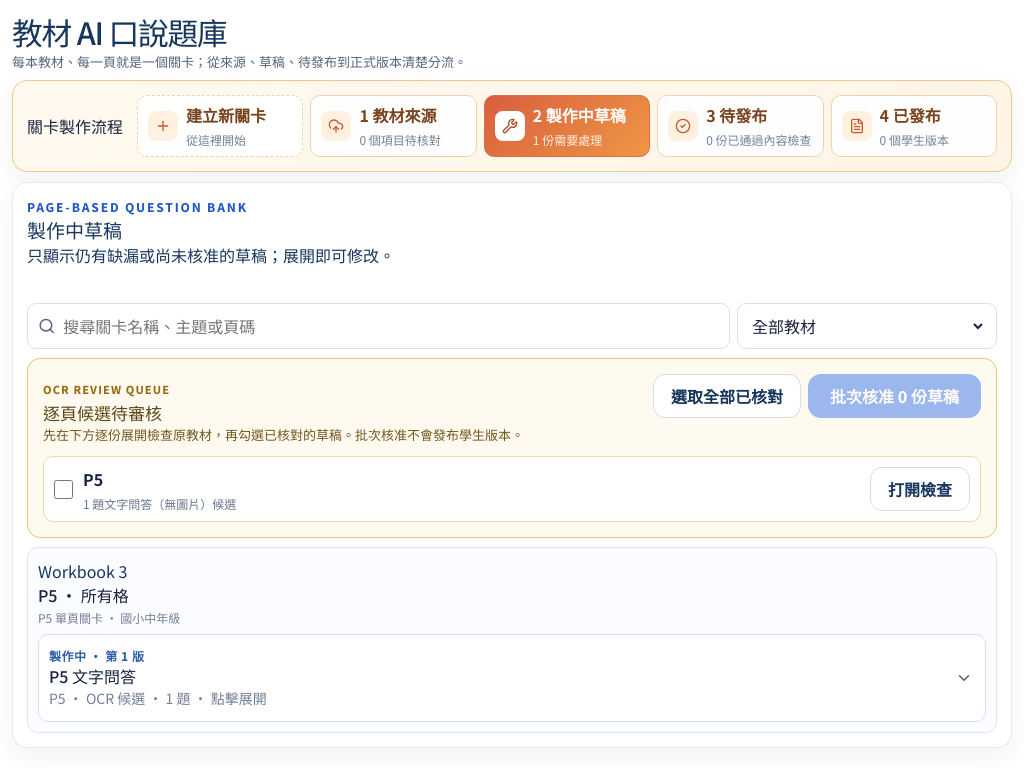
SpeakingContentAdmin whole-book OCR › labels no-image text questions and exposes reviewed alternative full answers
Expected: the text "1 題文字問答（無圖片）候選" is shown, [83,494,236,512]
Click the button "製作中 · 第 1 版 P5 文字問答 P5 · OCR 候選 · 1 題 · 點擊展開": x=68, y=656 [49,644,975,712]
(page scrolled)
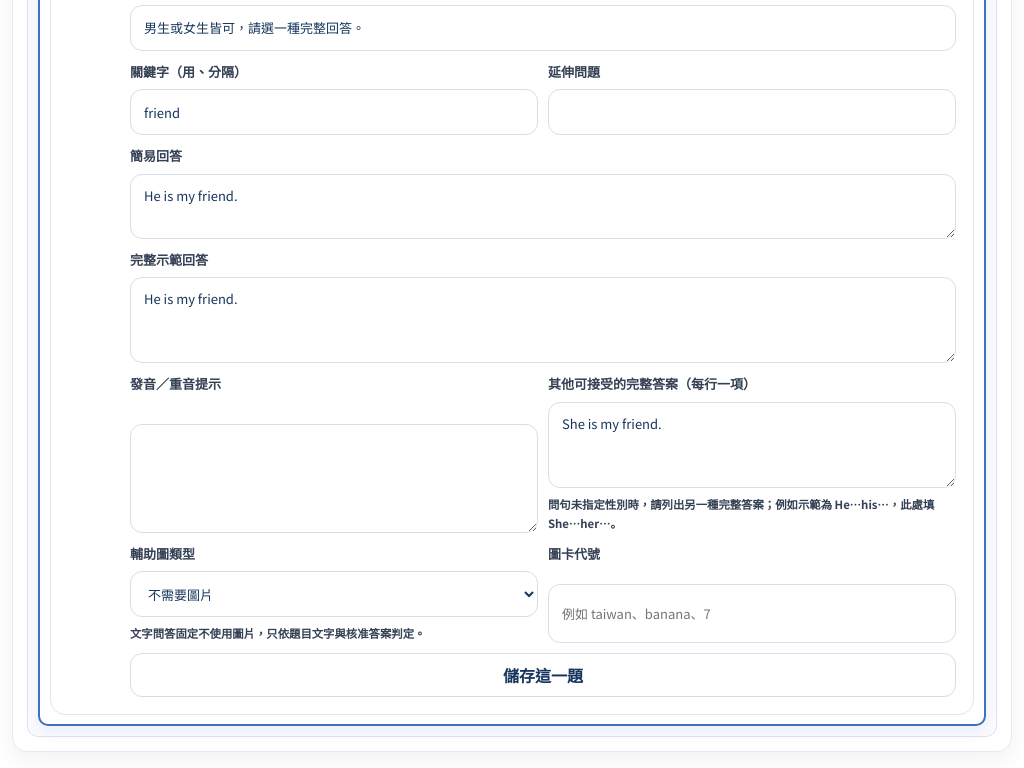
Now the text "其他可接受的完整答案（每行一項）" is shown, box [548,374,756,394]
